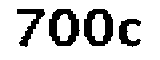0: (46, 5, 82, 49), (83, 4, 116, 52)
7: (10, 6, 46, 49)
c: (117, 17, 145, 51)
